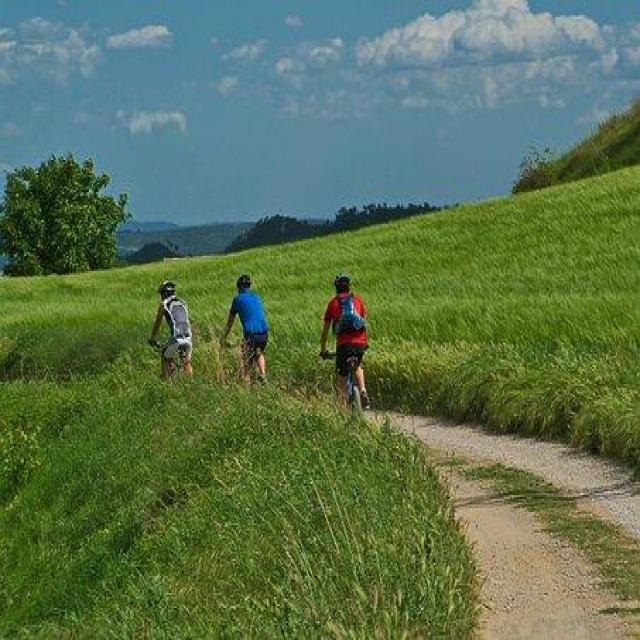bikerider: (310, 266, 378, 424), (142, 271, 206, 401), (219, 271, 277, 392)
